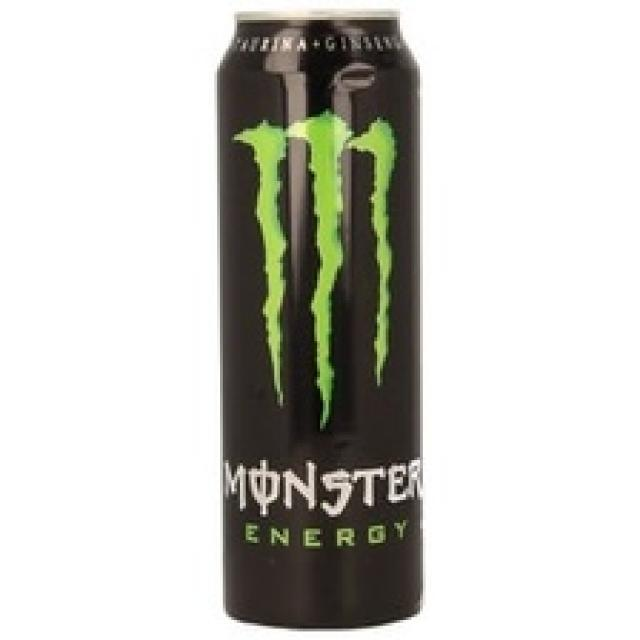recyclable: (215, 8, 418, 627)
